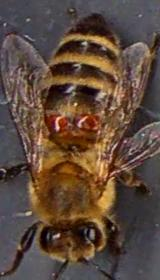varroa_mite: (45, 109, 77, 138), (74, 110, 100, 136)
